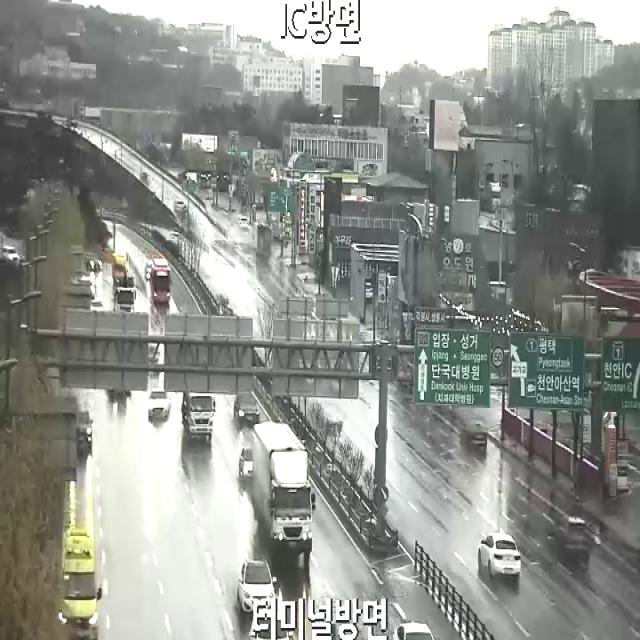Bus: (152, 258, 171, 304)
Car: (58, 530, 102, 640), (238, 558, 276, 614), (478, 533, 521, 579), (554, 516, 590, 562), (249, 609, 293, 640), (392, 620, 436, 640), (460, 421, 487, 450), (234, 394, 260, 422), (148, 388, 169, 418), (239, 448, 253, 478), (3, 246, 20, 265), (90, 300, 106, 310), (238, 217, 249, 230)
Truck: (254, 422, 316, 559), (182, 392, 215, 440), (114, 277, 136, 312)
